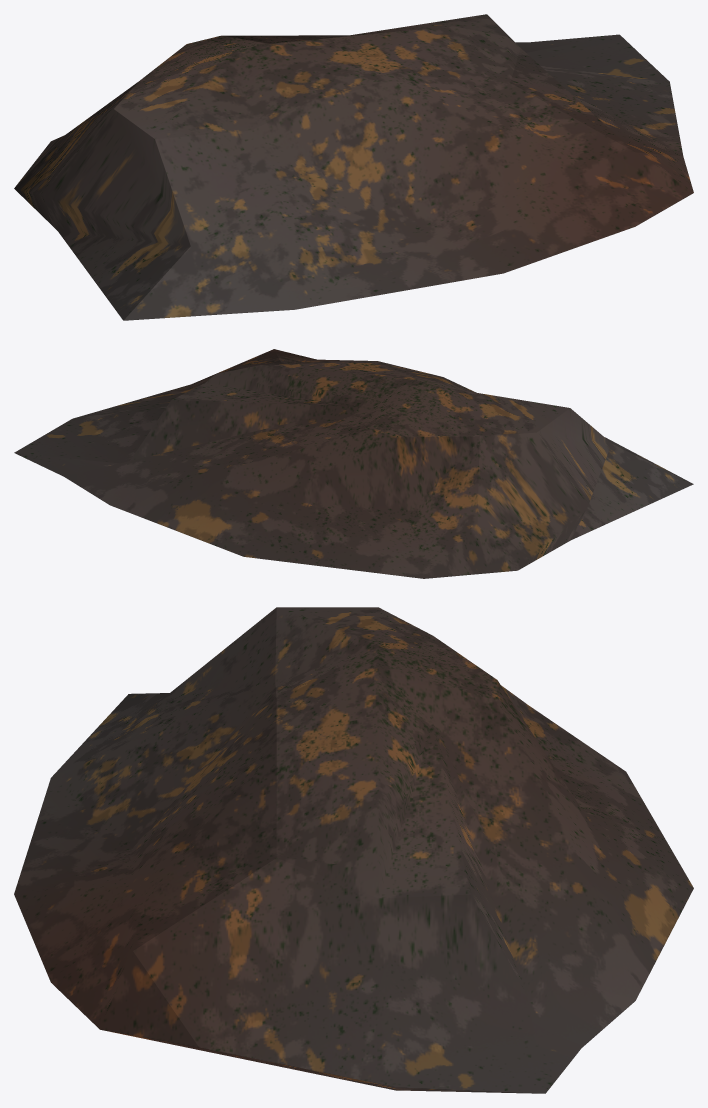
The model's file is RockA.fbx.
3 views of the same model, one above another, from view 1: azimuth 30°, elevation 25°; view 2: azimuth 150°, elevation 25°; view 3: azimuth 270°, elevation 25° (orthographic). The views are drawn at different scales.
Parts seen in each view (by area): view 1: RockA; view 2: RockA; view 3: RockA.
Boxes of the visible parts, x1,y1,x2,y2 form: RockA: (14, 14, 693, 320); RockA: (14, 349, 693, 578); RockA: (14, 607, 693, 1093).
Bounding box in the file's own units: 6.05 × 1.58 × 4.35.
1 material, 1 textured.
